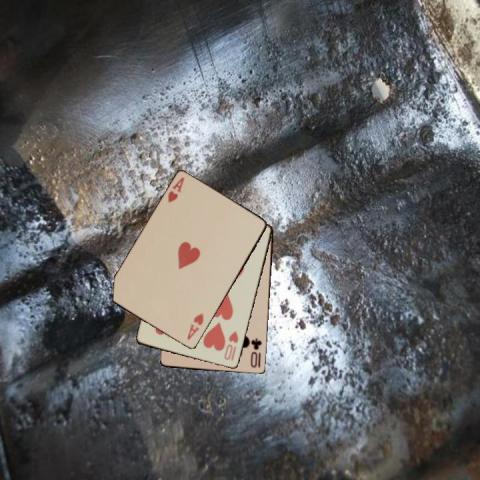10c: (248, 336, 263, 370)
10h: (221, 328, 240, 363)
Ah: (184, 311, 205, 341), (165, 174, 186, 204)
